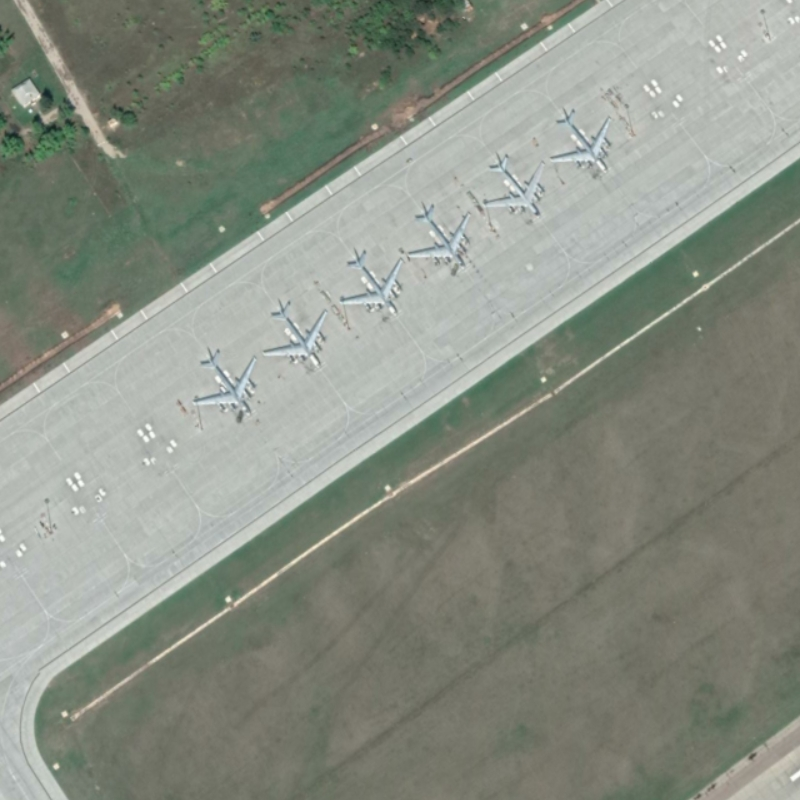A17: (336, 244, 408, 319), (262, 295, 333, 371), (404, 199, 475, 273), (190, 344, 259, 419), (478, 149, 547, 217), (548, 104, 613, 175)
